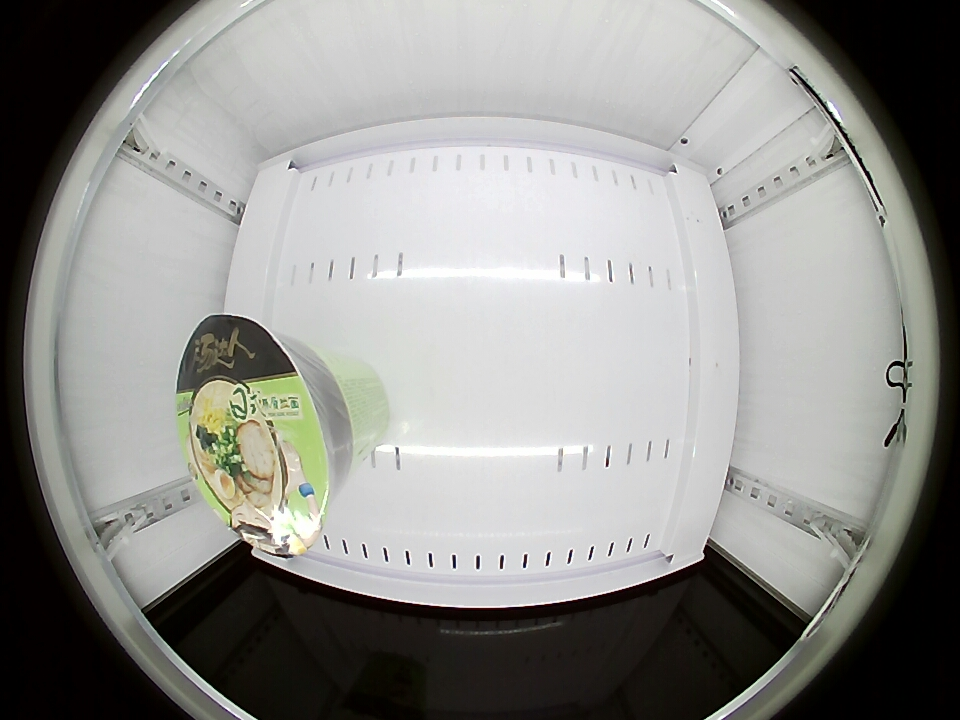tangdaren: (174, 315, 347, 557)
